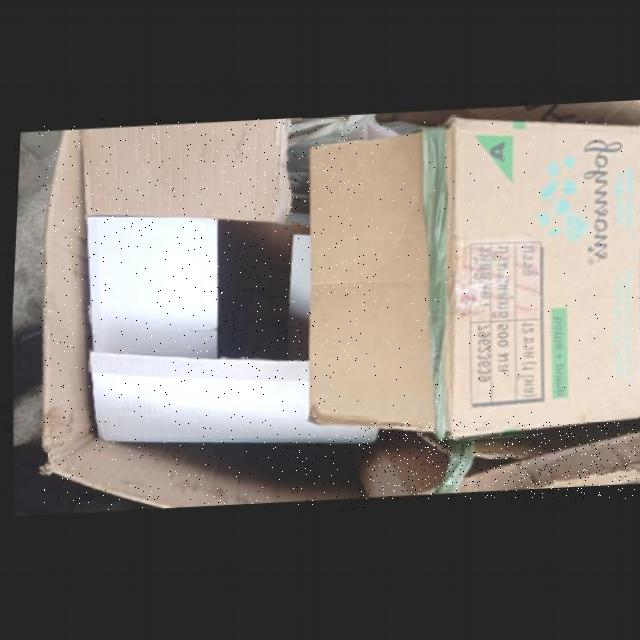paper: (39, 119, 365, 509), (302, 116, 639, 439), (82, 215, 378, 444), (361, 422, 639, 498)
